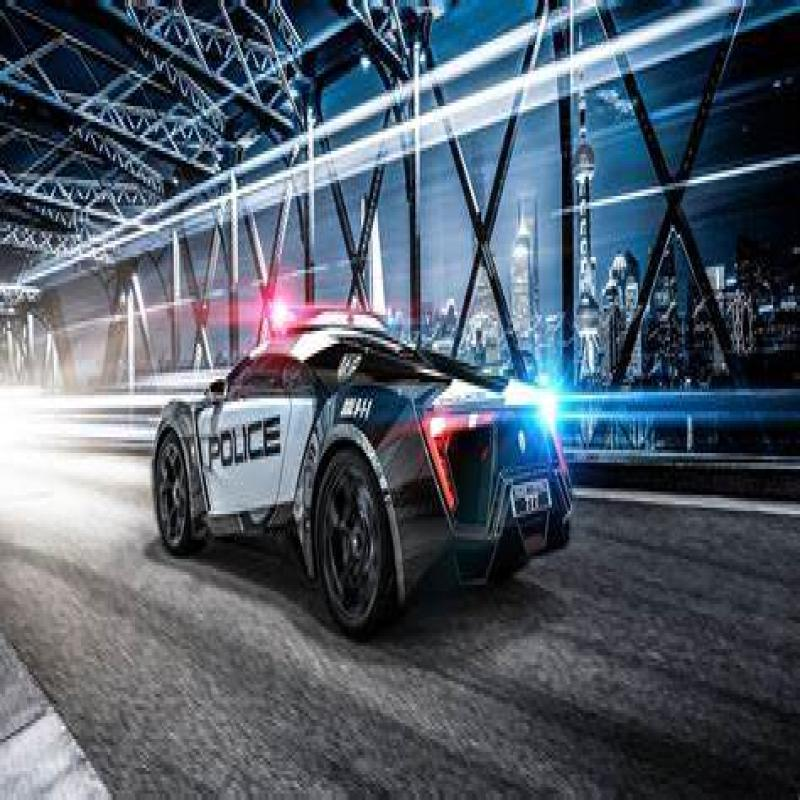AmbulanceSiren: (263, 284, 384, 347)
